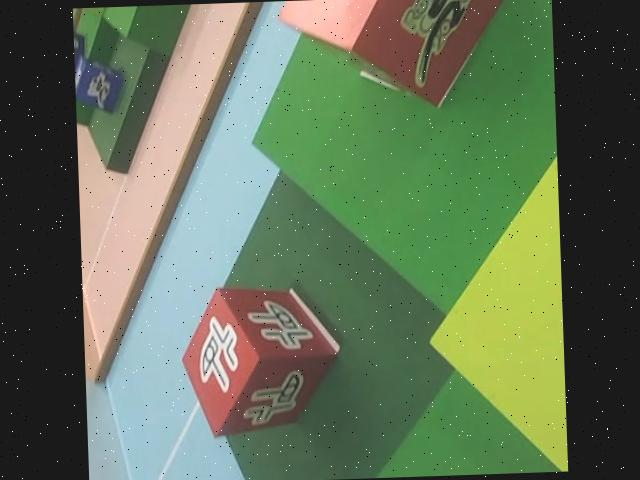R1: (270, 0, 522, 118)
R2 Real: (174, 281, 345, 443)
